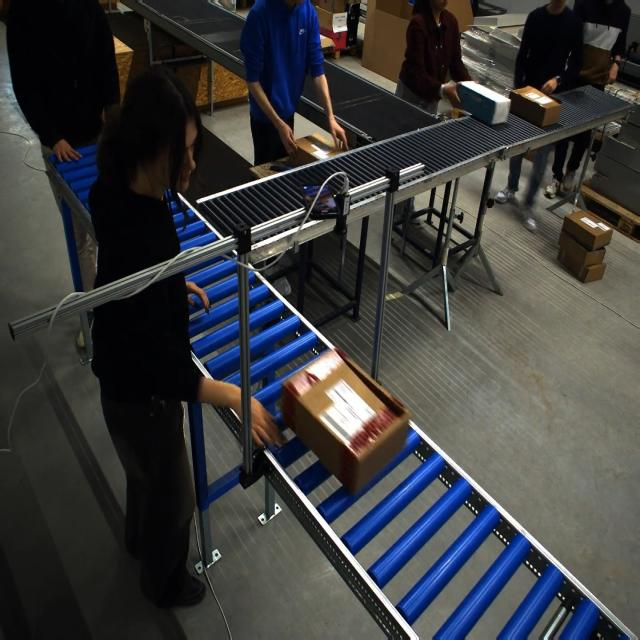box: (275, 334, 422, 489), (456, 80, 510, 126), (287, 133, 339, 166)
